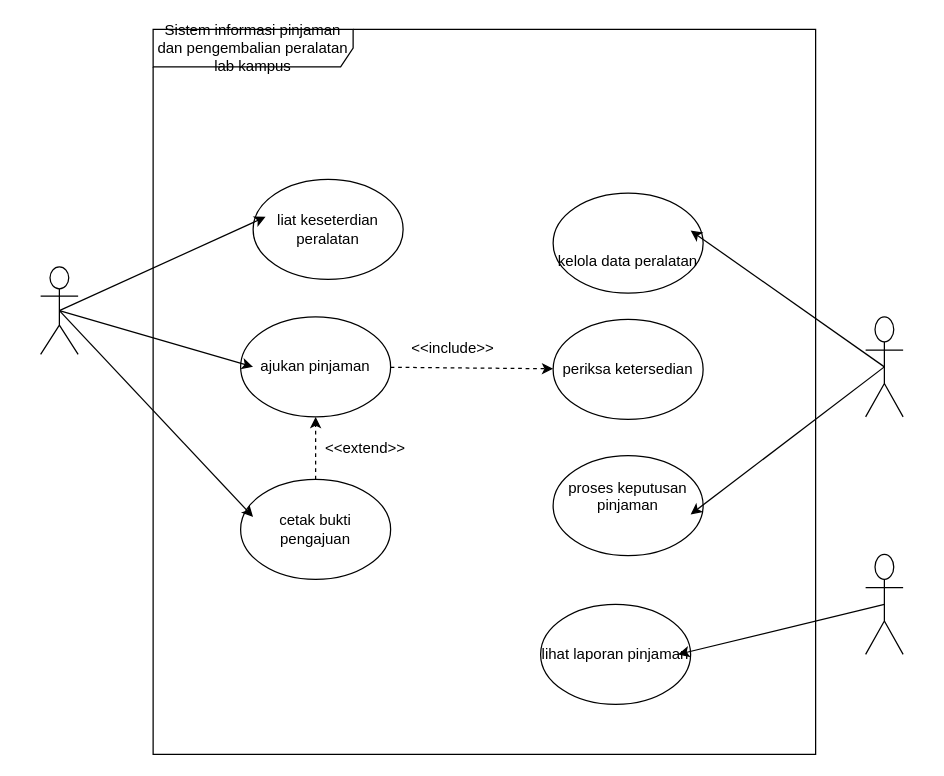
The diagram is 944 pixels wide and 776 high, and some of its shapes have lost their labels. Each missing label, with the centre of its shape:
"kepala lab" belongs at point (883, 603).
"mahasiswa" belongs at point (58, 310).
"petugas lab" belongs at point (883, 366).
